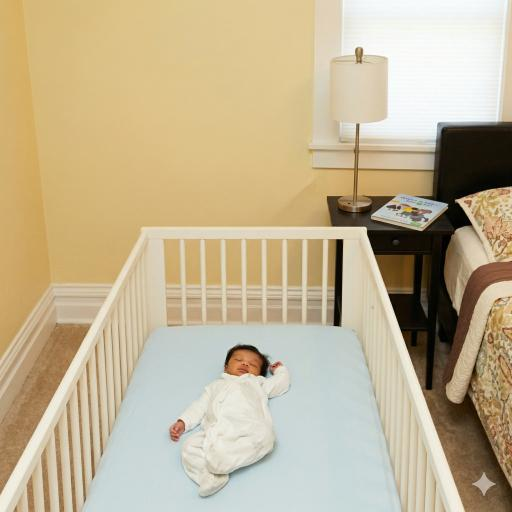baby: (170, 345, 289, 496)
crib: (0, 227, 463, 511)
